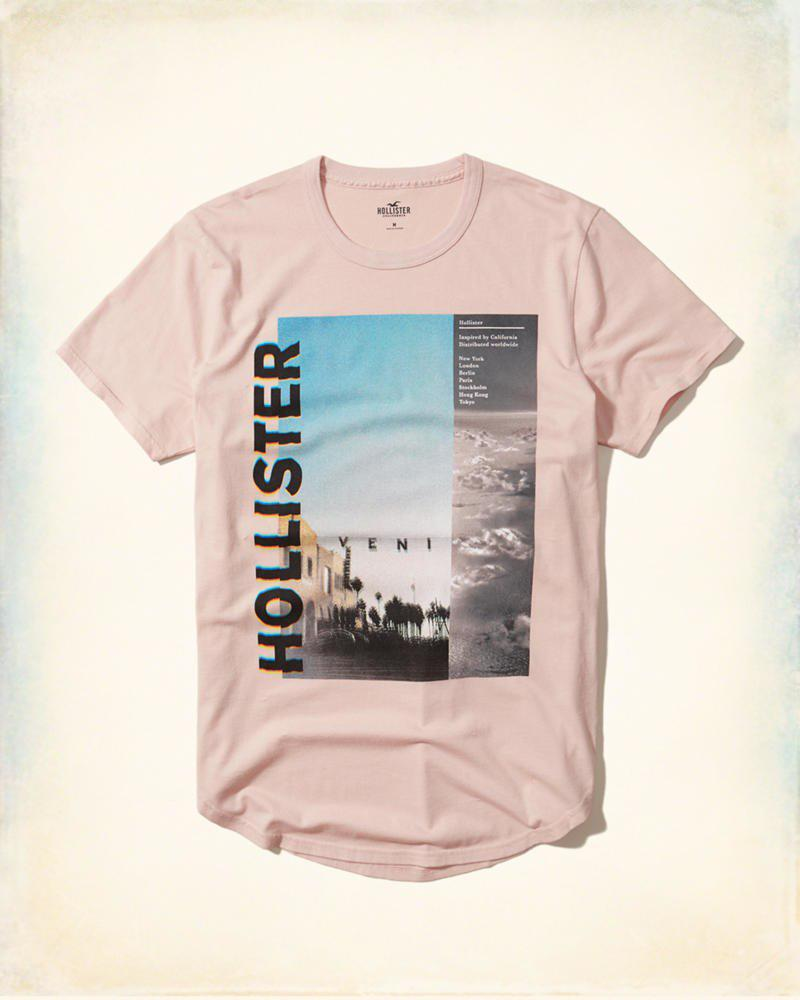teeshirt: (42, 127, 753, 883)
